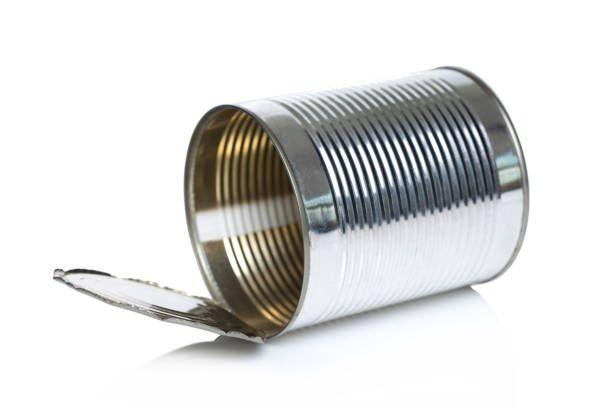metal: (47, 58, 536, 352)
